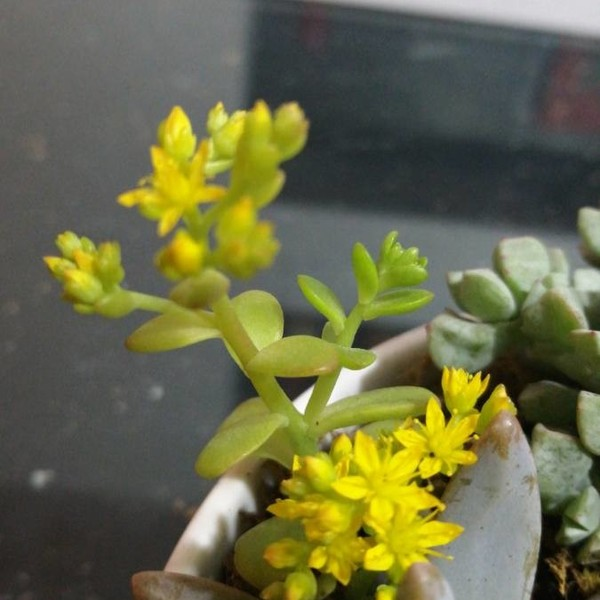obstacle: (53, 101, 480, 569)
